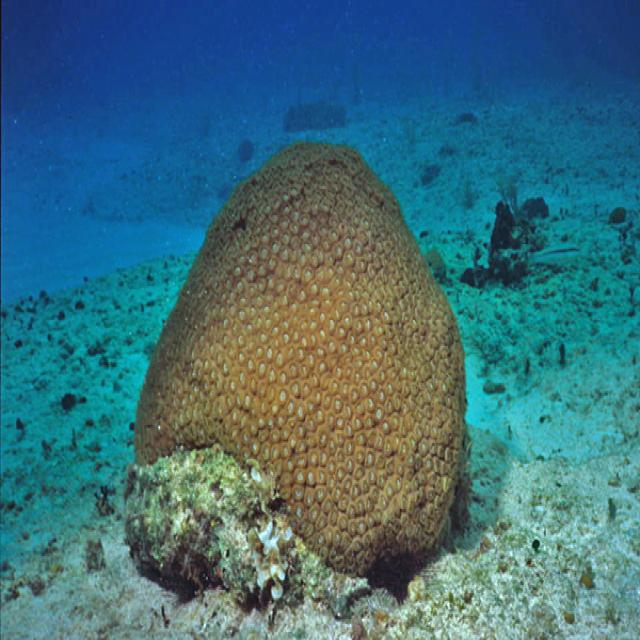Coral: (133, 142, 468, 576)
